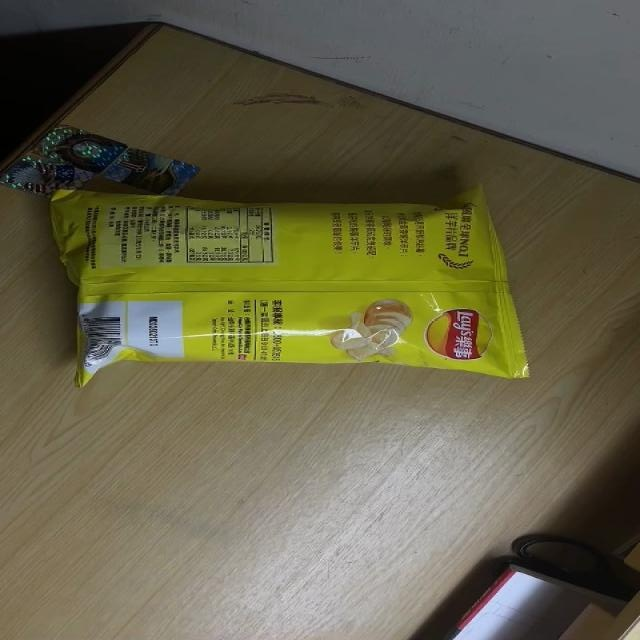Lay-s-original: (50, 179, 533, 389)
